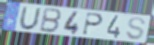4: (63, 10, 81, 36), (106, 15, 121, 39)
B: (38, 7, 64, 34)
P: (81, 12, 104, 37)
S: (125, 17, 147, 41)
U: (18, 7, 42, 31)
